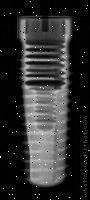Camlog: (14, 17, 74, 189)
